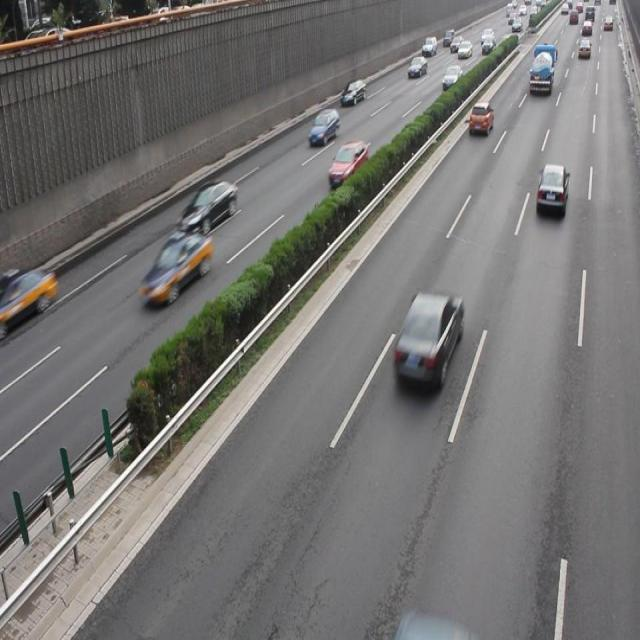car: (392, 290, 463, 388), (139, 232, 212, 308), (175, 180, 238, 237), (327, 141, 368, 187), (534, 162, 568, 217), (308, 106, 338, 146), (467, 102, 492, 137)
